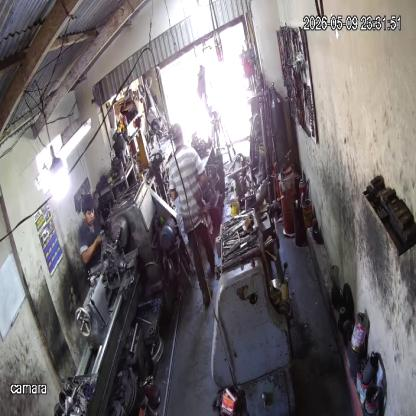sin_lentes: (84, 208, 96, 218)
